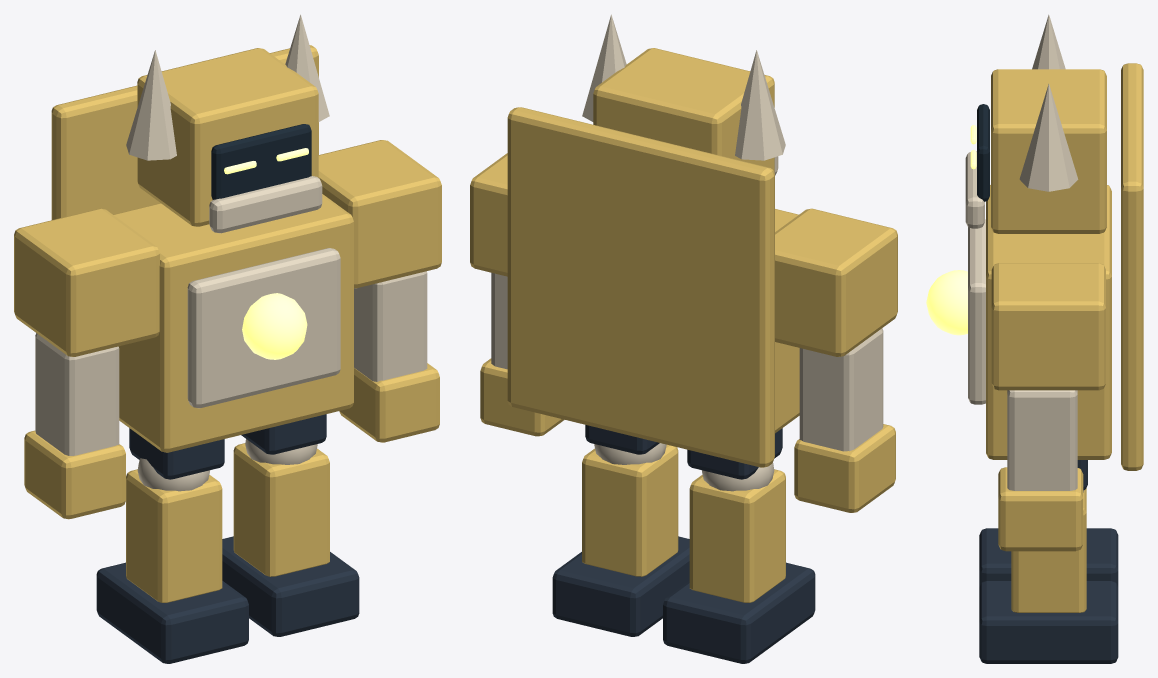
File: world_3.glb
3 renders of one model, left to right at view 1: azimuth 30°, elevation 25°; view 2: azimuth 150°, elevation 25°; view 3: azimuth 270°, elevation 25°, orthographic. The views are drawn at different scales.
Visible parts, largest first — view 1: Seraph export; view 2: Seraph export; view 3: Seraph export.
Boxes of the visible parts, box(x1,y1,x2,y2) form: Seraph export: box(14, 14, 441, 663); Seraph export: box(470, 14, 897, 663); Seraph export: box(926, 14, 1143, 663).
Bounding box in the file's own units: 2.6 × 3.86 × 1.33.
